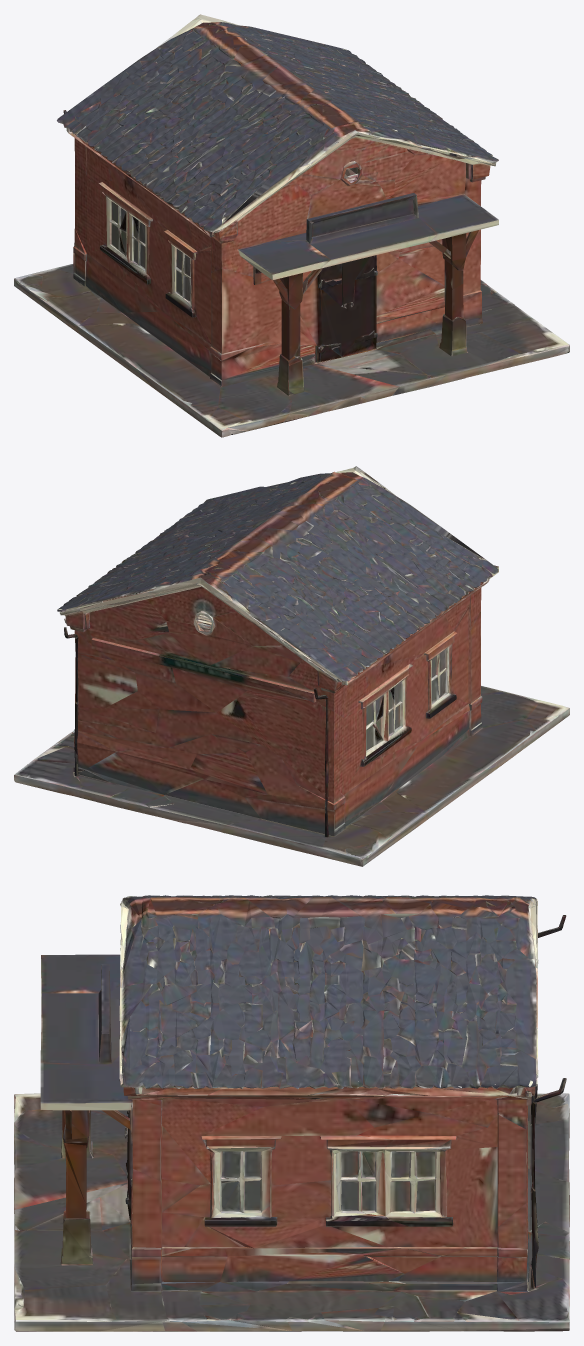
File: station_wh_1.glb
3 renders of one model, top to bottom at view 1: azimuth 30°, elevation 25°; view 2: azimuth 150°, elevation 25°; view 3: azimuth 270°, elevation 25°, orthographic. The views are drawn at different scales.
Visible parts, largest first — view 1: normalize; view 2: normalize; view 3: normalize.
Part boxes in pixels (x1,y1,x2,y2): normalize: [14, 14, 569, 437]; normalize: [14, 466, 569, 866]; normalize: [14, 895, 569, 1331].
Size of the model in its own units: 0.9716 by 0.6336 by 1.
Materials: 1 (1 with a texture image).
